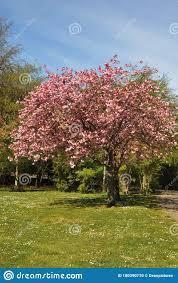tree: (11, 60, 177, 205)
